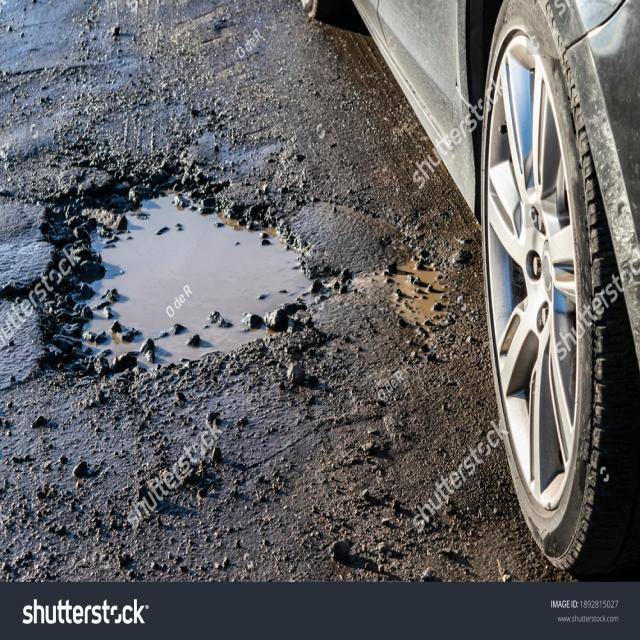Pothole: (62, 194, 313, 366)
